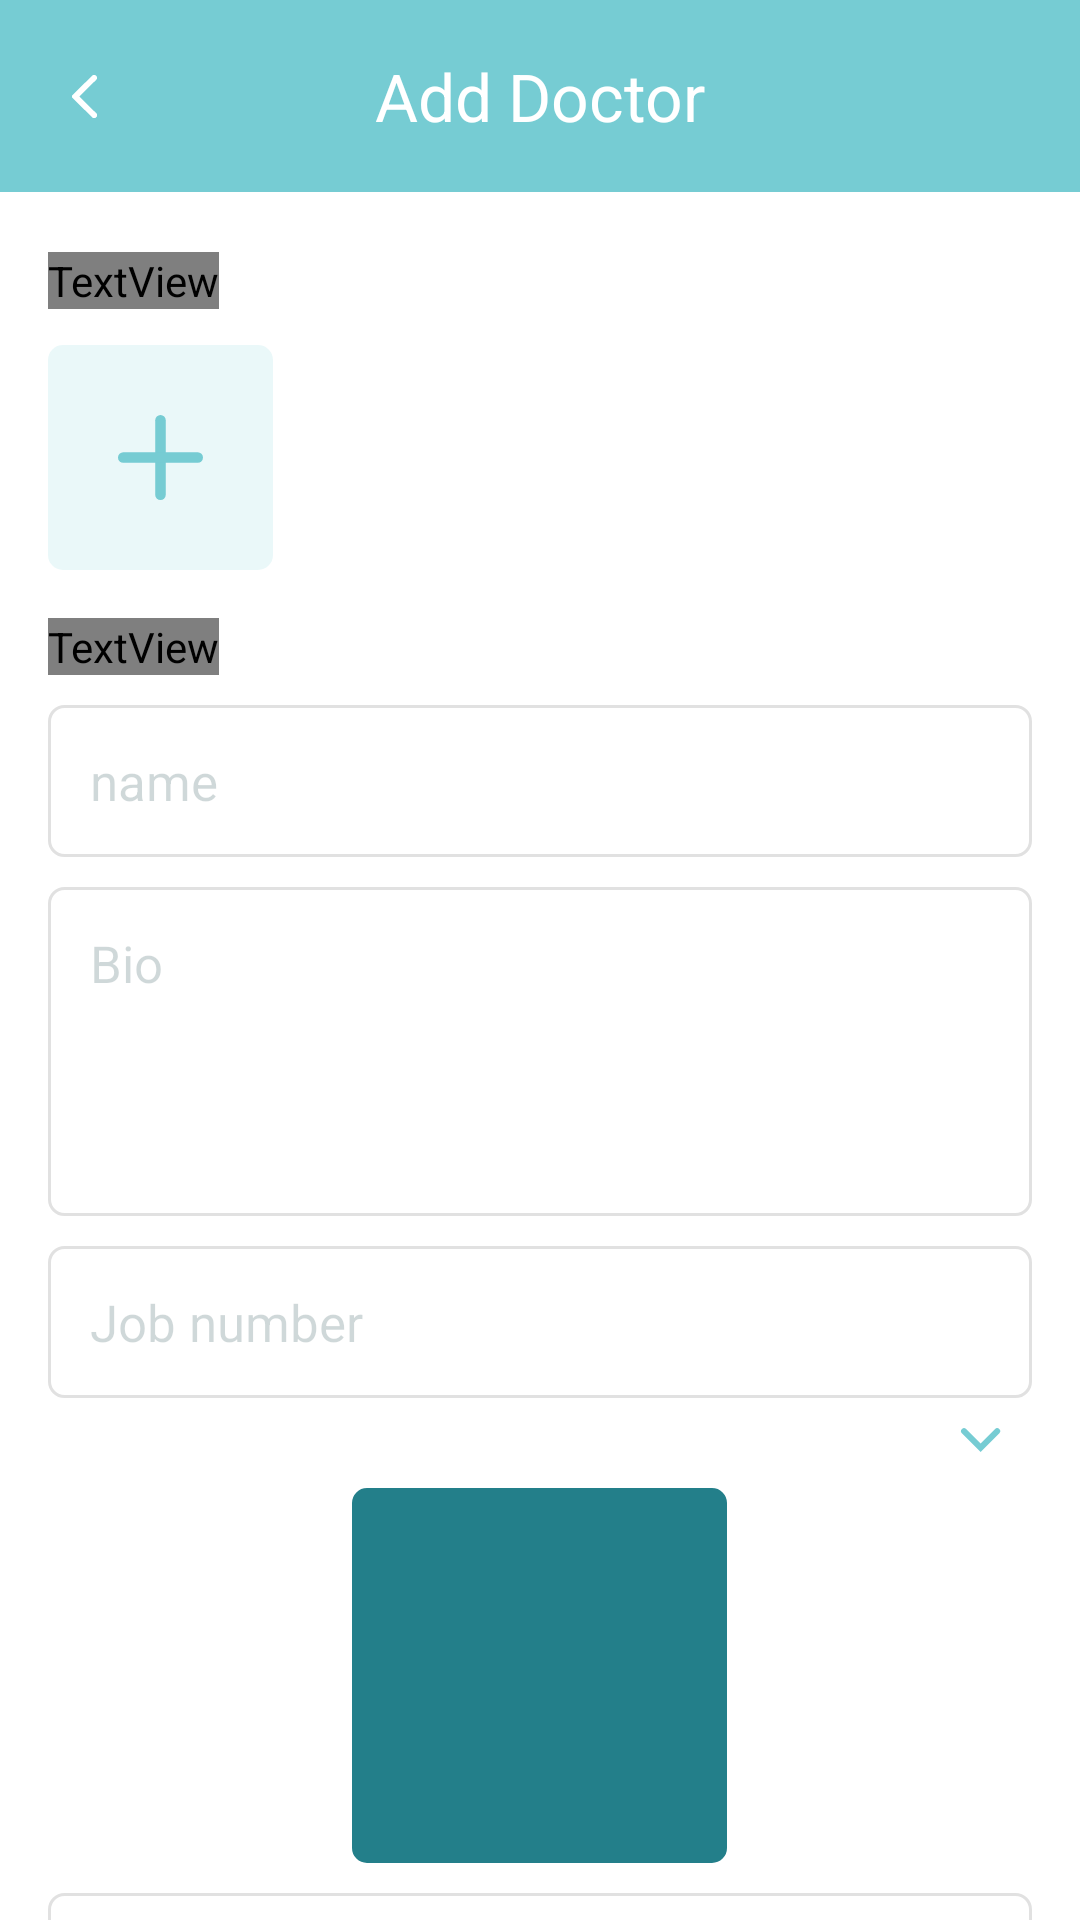

Icons on this 1080 × 1920 Android screen, each with the point to tap as [x,y]:
add: [160,457]
